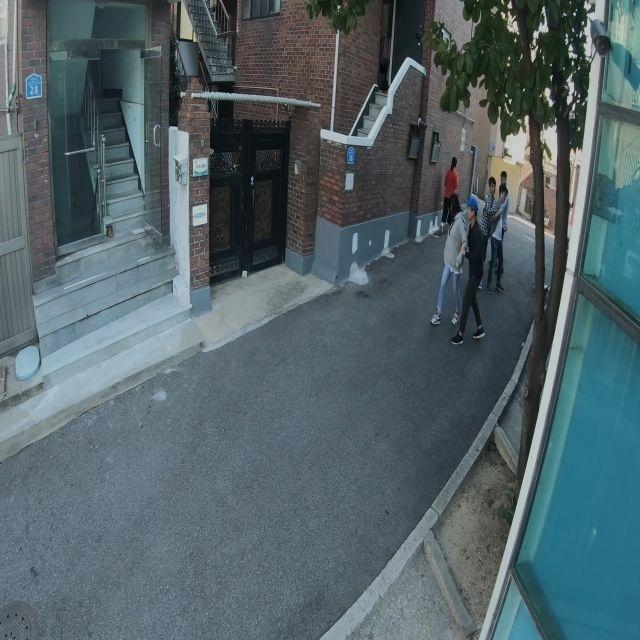non-fight: (453, 193, 495, 348), (427, 192, 468, 330)
